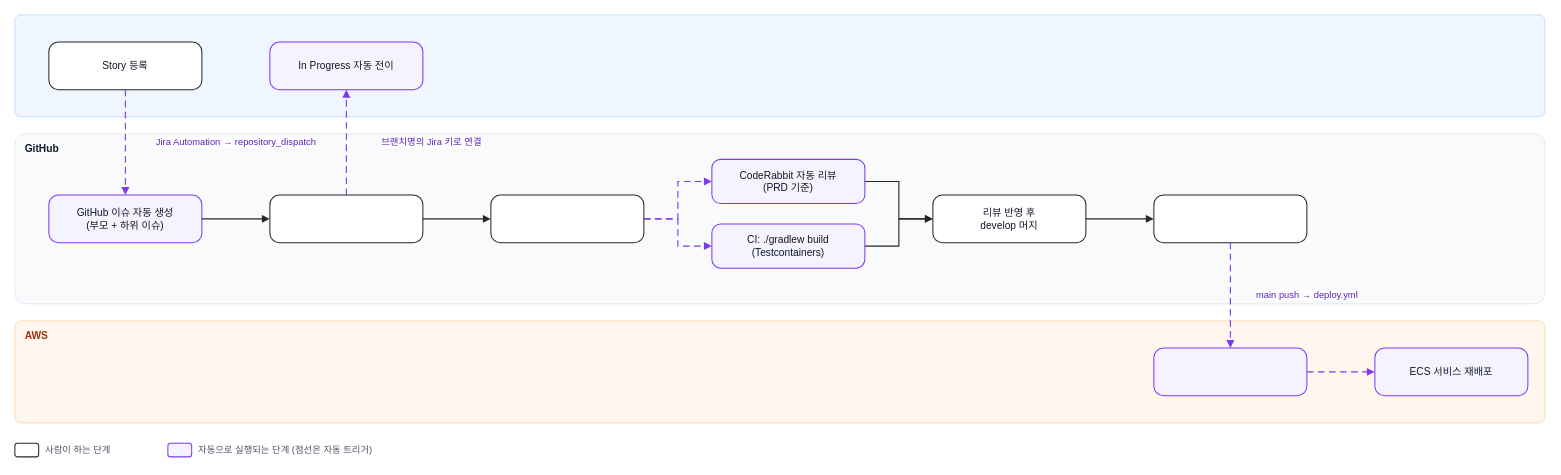
This 1561x475 diagram has some shape labels left out. Each missing label, with the box of its shape:
CI 재실행 후 이미지 빌드, ECR push: (1153, 347, 1307, 396)
develop → main PR 머지: (1153, 194, 1307, 243)
feature/HBB1-N 브랜치 생성, push: (269, 194, 423, 243)
Jira: (14, 14, 1545, 117)
PR 생성 (draft) 준비되면 ready 전환: (490, 194, 644, 243)
